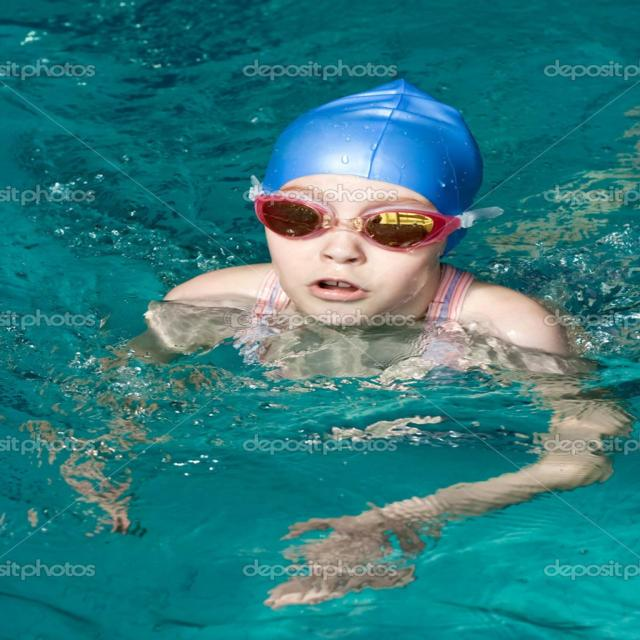Face: (241, 169, 474, 336)
